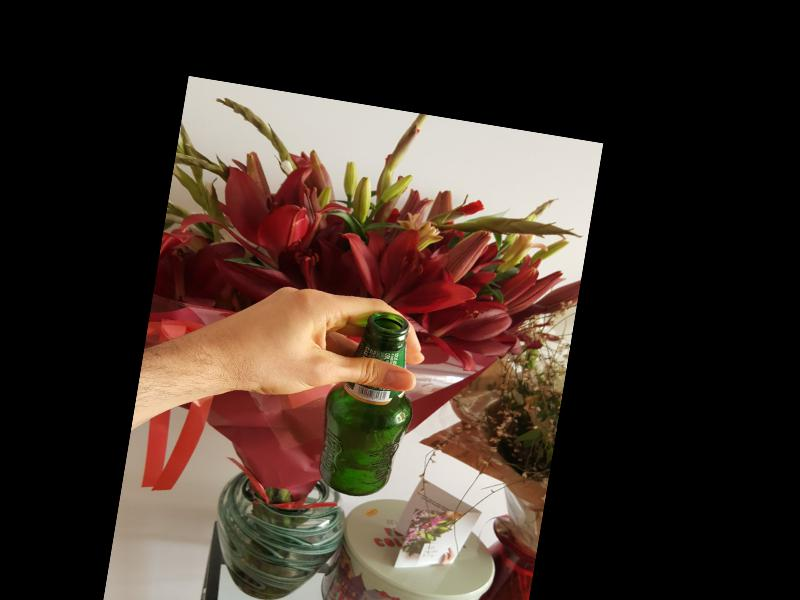Beer: (314, 306, 427, 503)
